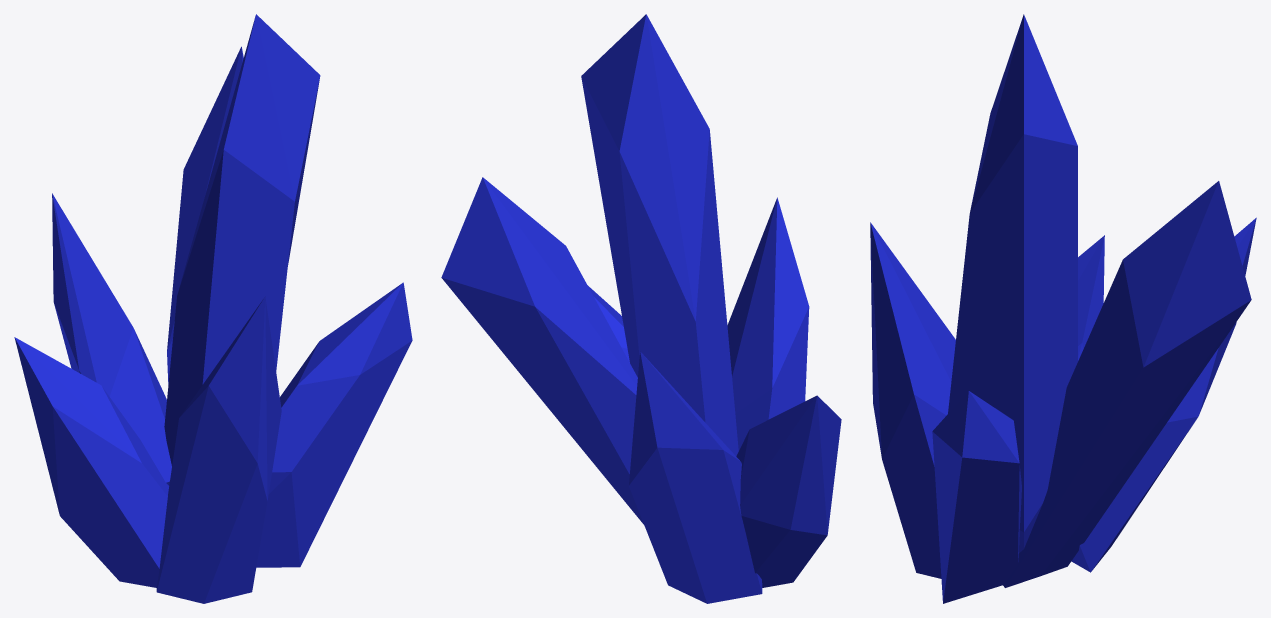
File: Crystal_Group_1.FBX
3 renders of one model, left to right at view 1: azimuth 30°, elevation 25°; view 2: azimuth 150°, elevation 25°; view 3: azimuth 270°, elevation 25°, orthographic. The views are drawn at different scales.
Parts seen in each view (by area): view 1: Crystail_Group_1; view 2: Crystail_Group_1; view 3: Crystail_Group_1.
Part boxes in pixels (<box>): Crystail_Group_1: <box>14,14,412,603</box>; Crystail_Group_1: <box>441,14,841,603</box>; Crystail_Group_1: <box>870,14,1256,603</box>.
Size of the model in its own units: 151 by 230 by 137.
